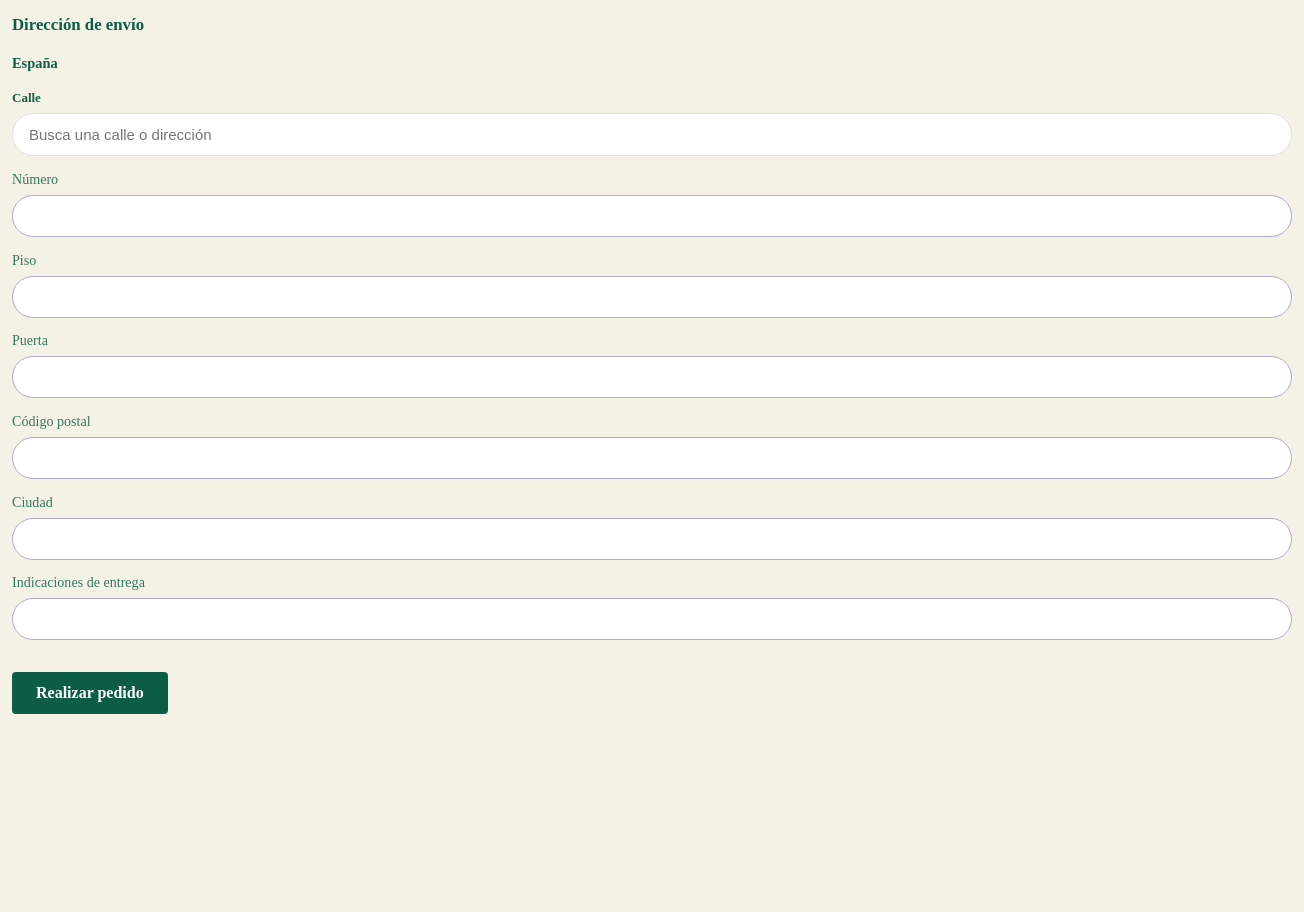
CheckoutConfirmButton › shows an error and stops when the address is incomplete
Type "Main St 1" into the dropdown labelled "Calle" at (652, 135), box [12,113,1292,156]
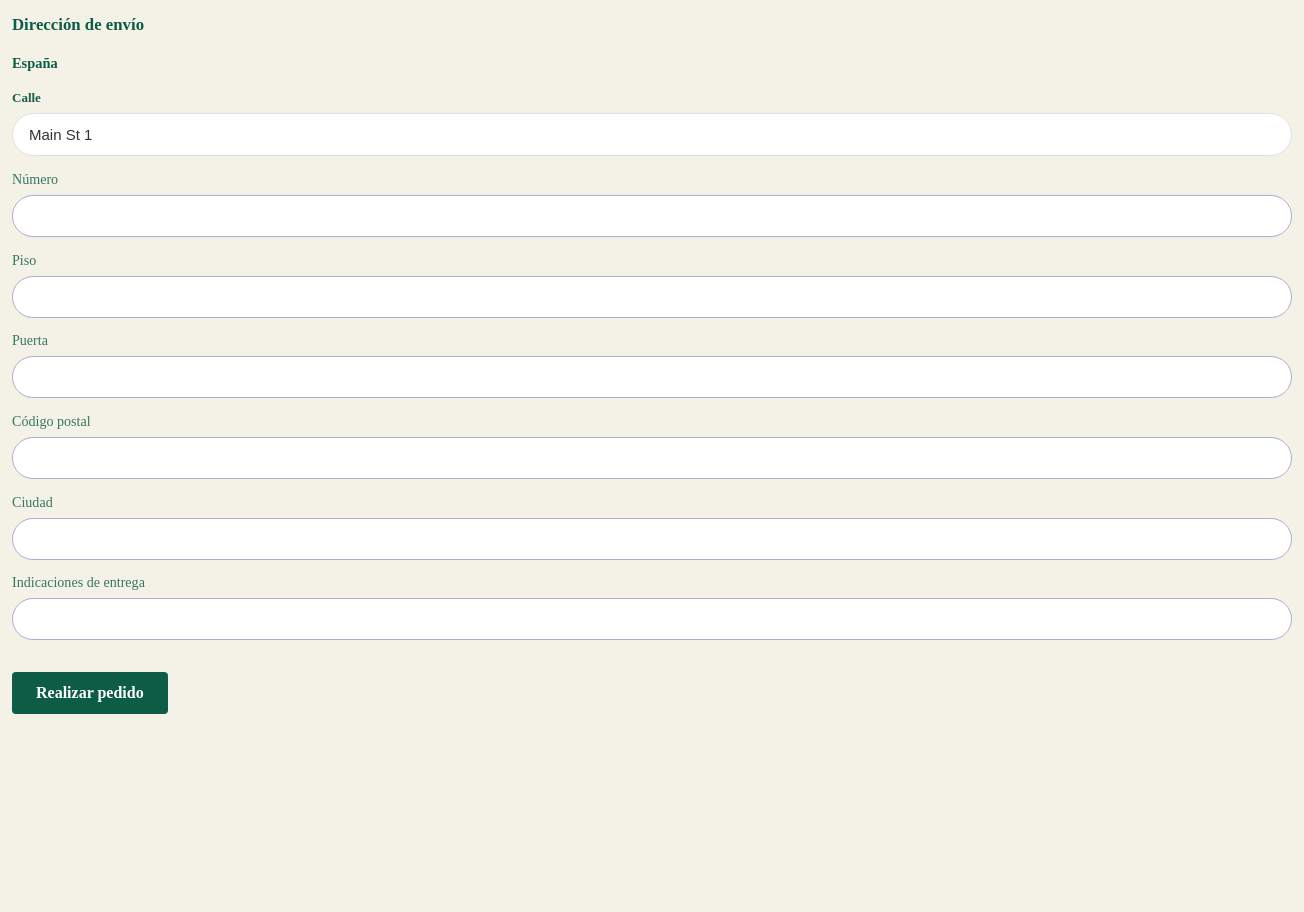
Click the button "Realizar pedido" at (90, 693), box [12,672,168,714]
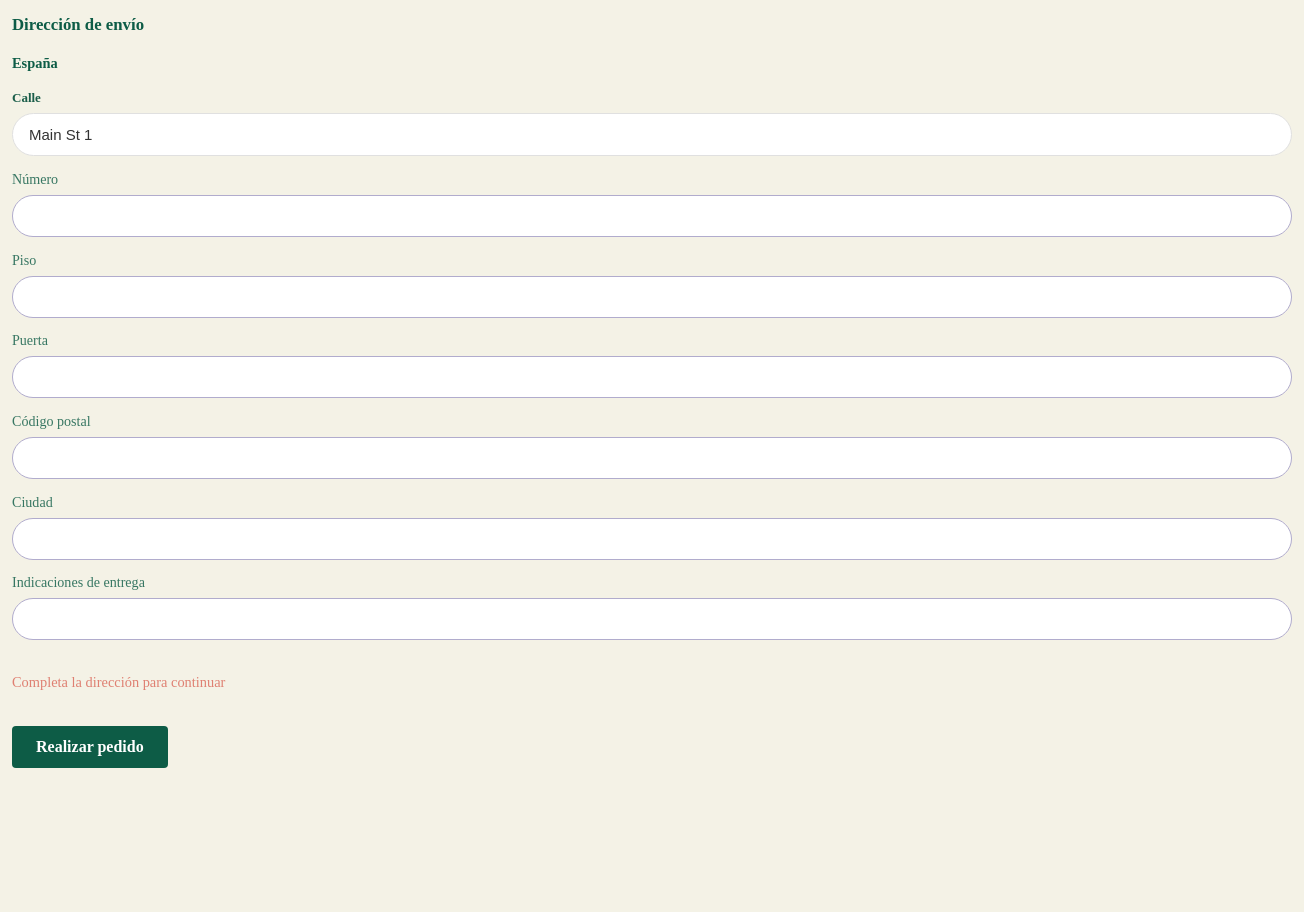
Expected: the message reads "Completa la dirección para continuar", [12,674,225,690]
